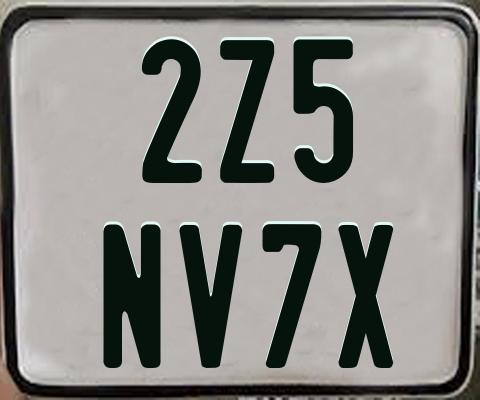2: (142, 37, 207, 182)
5: (293, 39, 356, 186)
7: (262, 221, 327, 371)
N: (102, 223, 163, 372)
V: (178, 222, 241, 371)
X: (337, 223, 394, 367)
Z: (220, 38, 274, 183)
